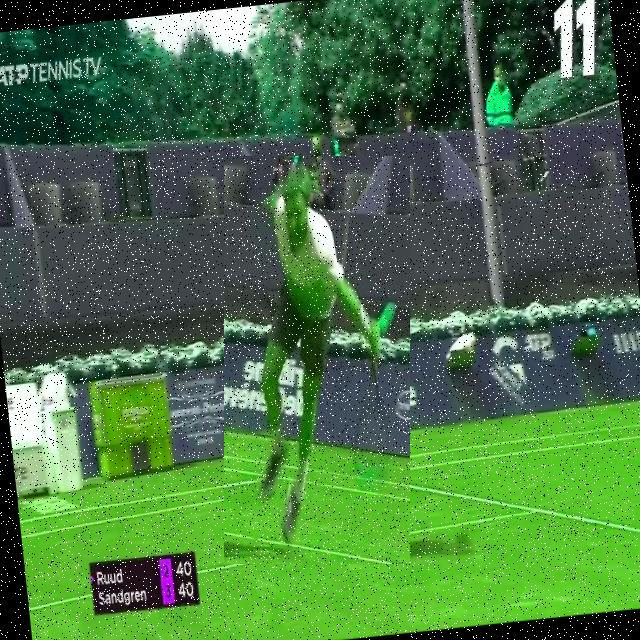player: (224, 156, 410, 564)
